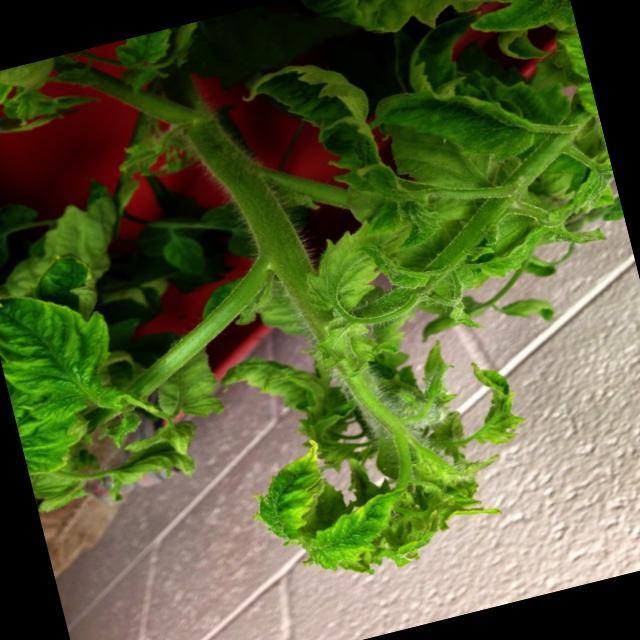Tomato yellow virus leaf: (0, 269, 143, 442), (375, 64, 538, 190), (235, 432, 352, 550), (300, 475, 420, 582), (298, 220, 394, 328)
